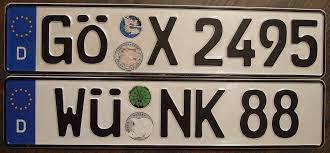2: (191, 15, 225, 70)
4: (226, 16, 256, 70)
5: (289, 16, 320, 69)
8: (239, 88, 270, 140), (271, 87, 301, 139)
9: (258, 16, 288, 69)
G: (40, 11, 75, 66)
K: (194, 86, 227, 140)
N: (159, 86, 193, 140)
W: (52, 84, 86, 140)
X: (146, 13, 180, 67)
oe: (75, 10, 110, 64)
ue: (88, 84, 123, 140)
